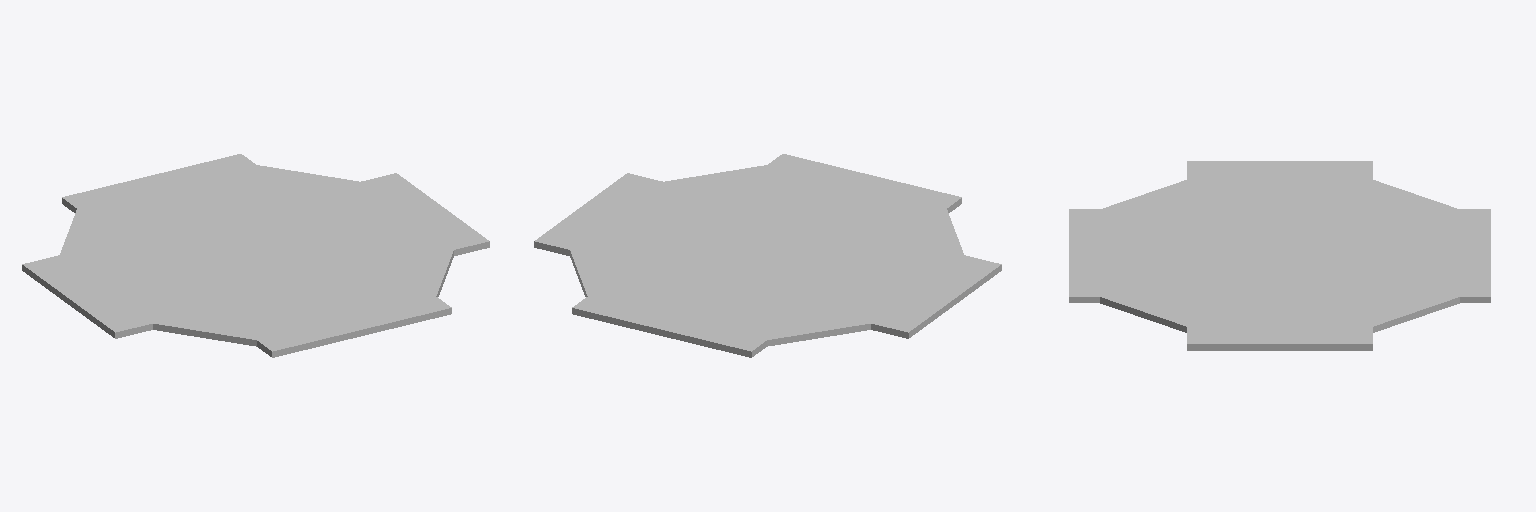
File: hubFloor.obj
3 renders of one model, left to right at view 1: azimuth 30°, elevation 25°; view 2: azimuth 150°, elevation 25°; view 3: azimuth 270°, elevation 25°, orthographic.
Parts seen in each view (by area): view 1: hubFloor Hub; view 2: hubFloor Hub; view 3: hubFloor Hub.
Part boxes in pixels (x1,y1,x2,y2): hubFloor Hub: (22, 154, 489, 357); hubFloor Hub: (534, 154, 1001, 357); hubFloor Hub: (1069, 161, 1490, 350).
Bounding box in the file's own units: 57.77 × 0.946 × 56.32.